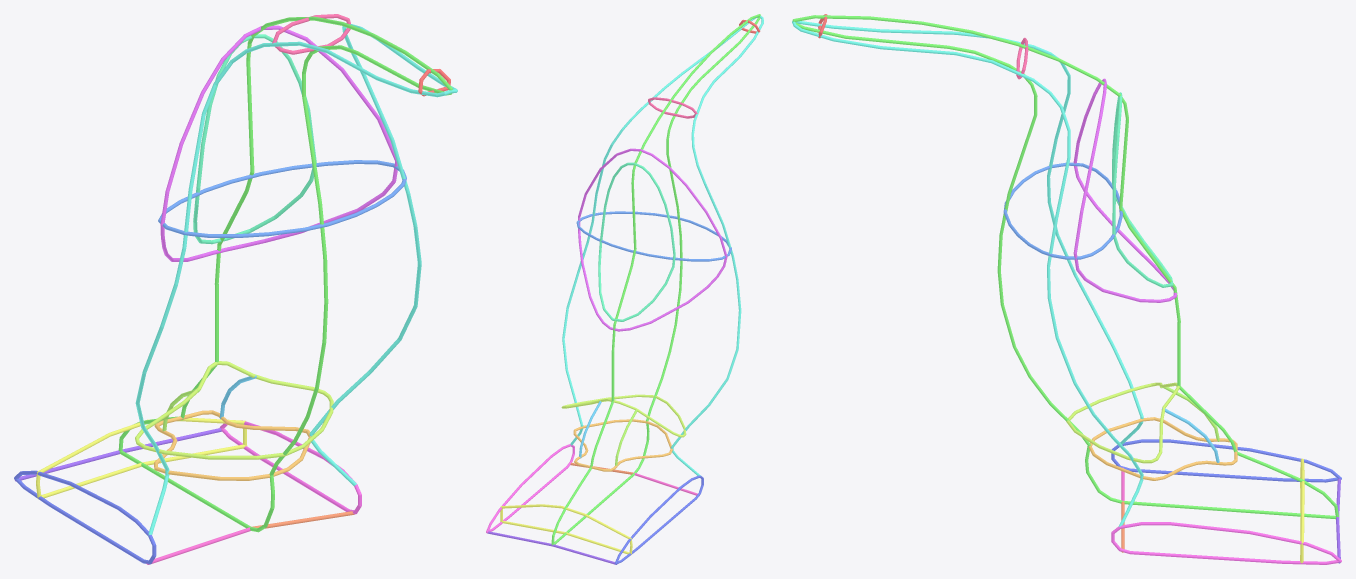
Rendered from t2f_vacuum.gltf.
3 views of the same model, side by side, from view 1: azimuth 30°, elevation 25°; view 2: azimuth 150°, elevation 25°; view 3: azimuth 270°, elevation 25° (orthographic). The views are drawn at different scales.
Size of the model in its own units: 0.317 by 0.6819 by 0.6687.
